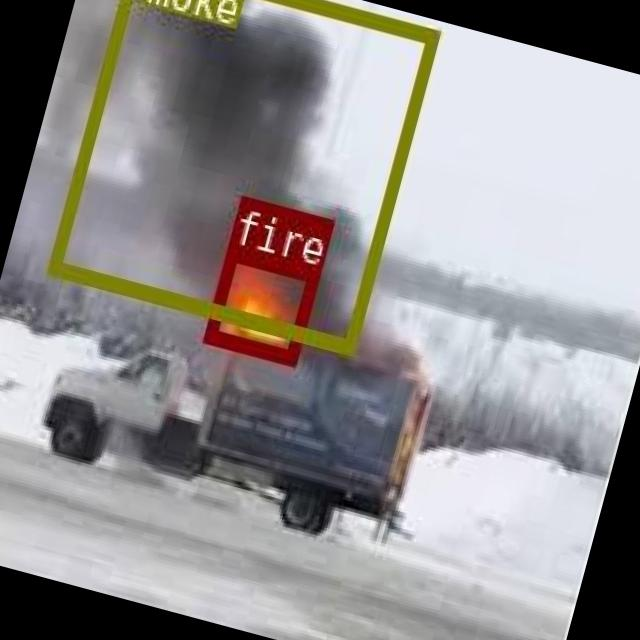fire: (202, 242, 320, 362)
smoke: (46, 0, 436, 350)
